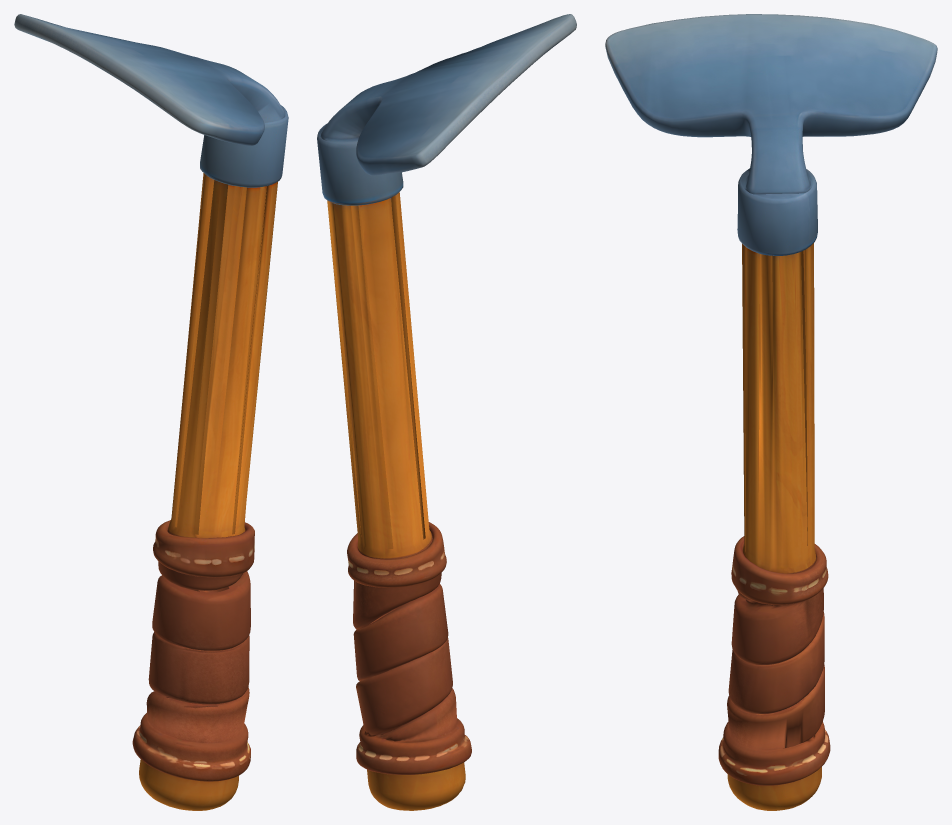
Rendered from T03_hoe.fbx.
3 renders of one model, left to right at view 1: azimuth 30°, elevation 25°; view 2: azimuth 150°, elevation 25°; view 3: azimuth 270°, elevation 25°, orthographic. The views are drawn at different scales.
Visible parts, largest first — view 1: tripo_node_1d073491; view 2: tripo_node_1d073491; view 3: tripo_node_1d073491.
Part boxes in pixels (<box>): tripo_node_1d073491: <box>14,14,288,810</box>; tripo_node_1d073491: <box>317,14,576,810</box>; tripo_node_1d073491: <box>605,14,937,810</box>.
Size of the model in its own units: 0.2973 by 1.13 by 0.4586.
